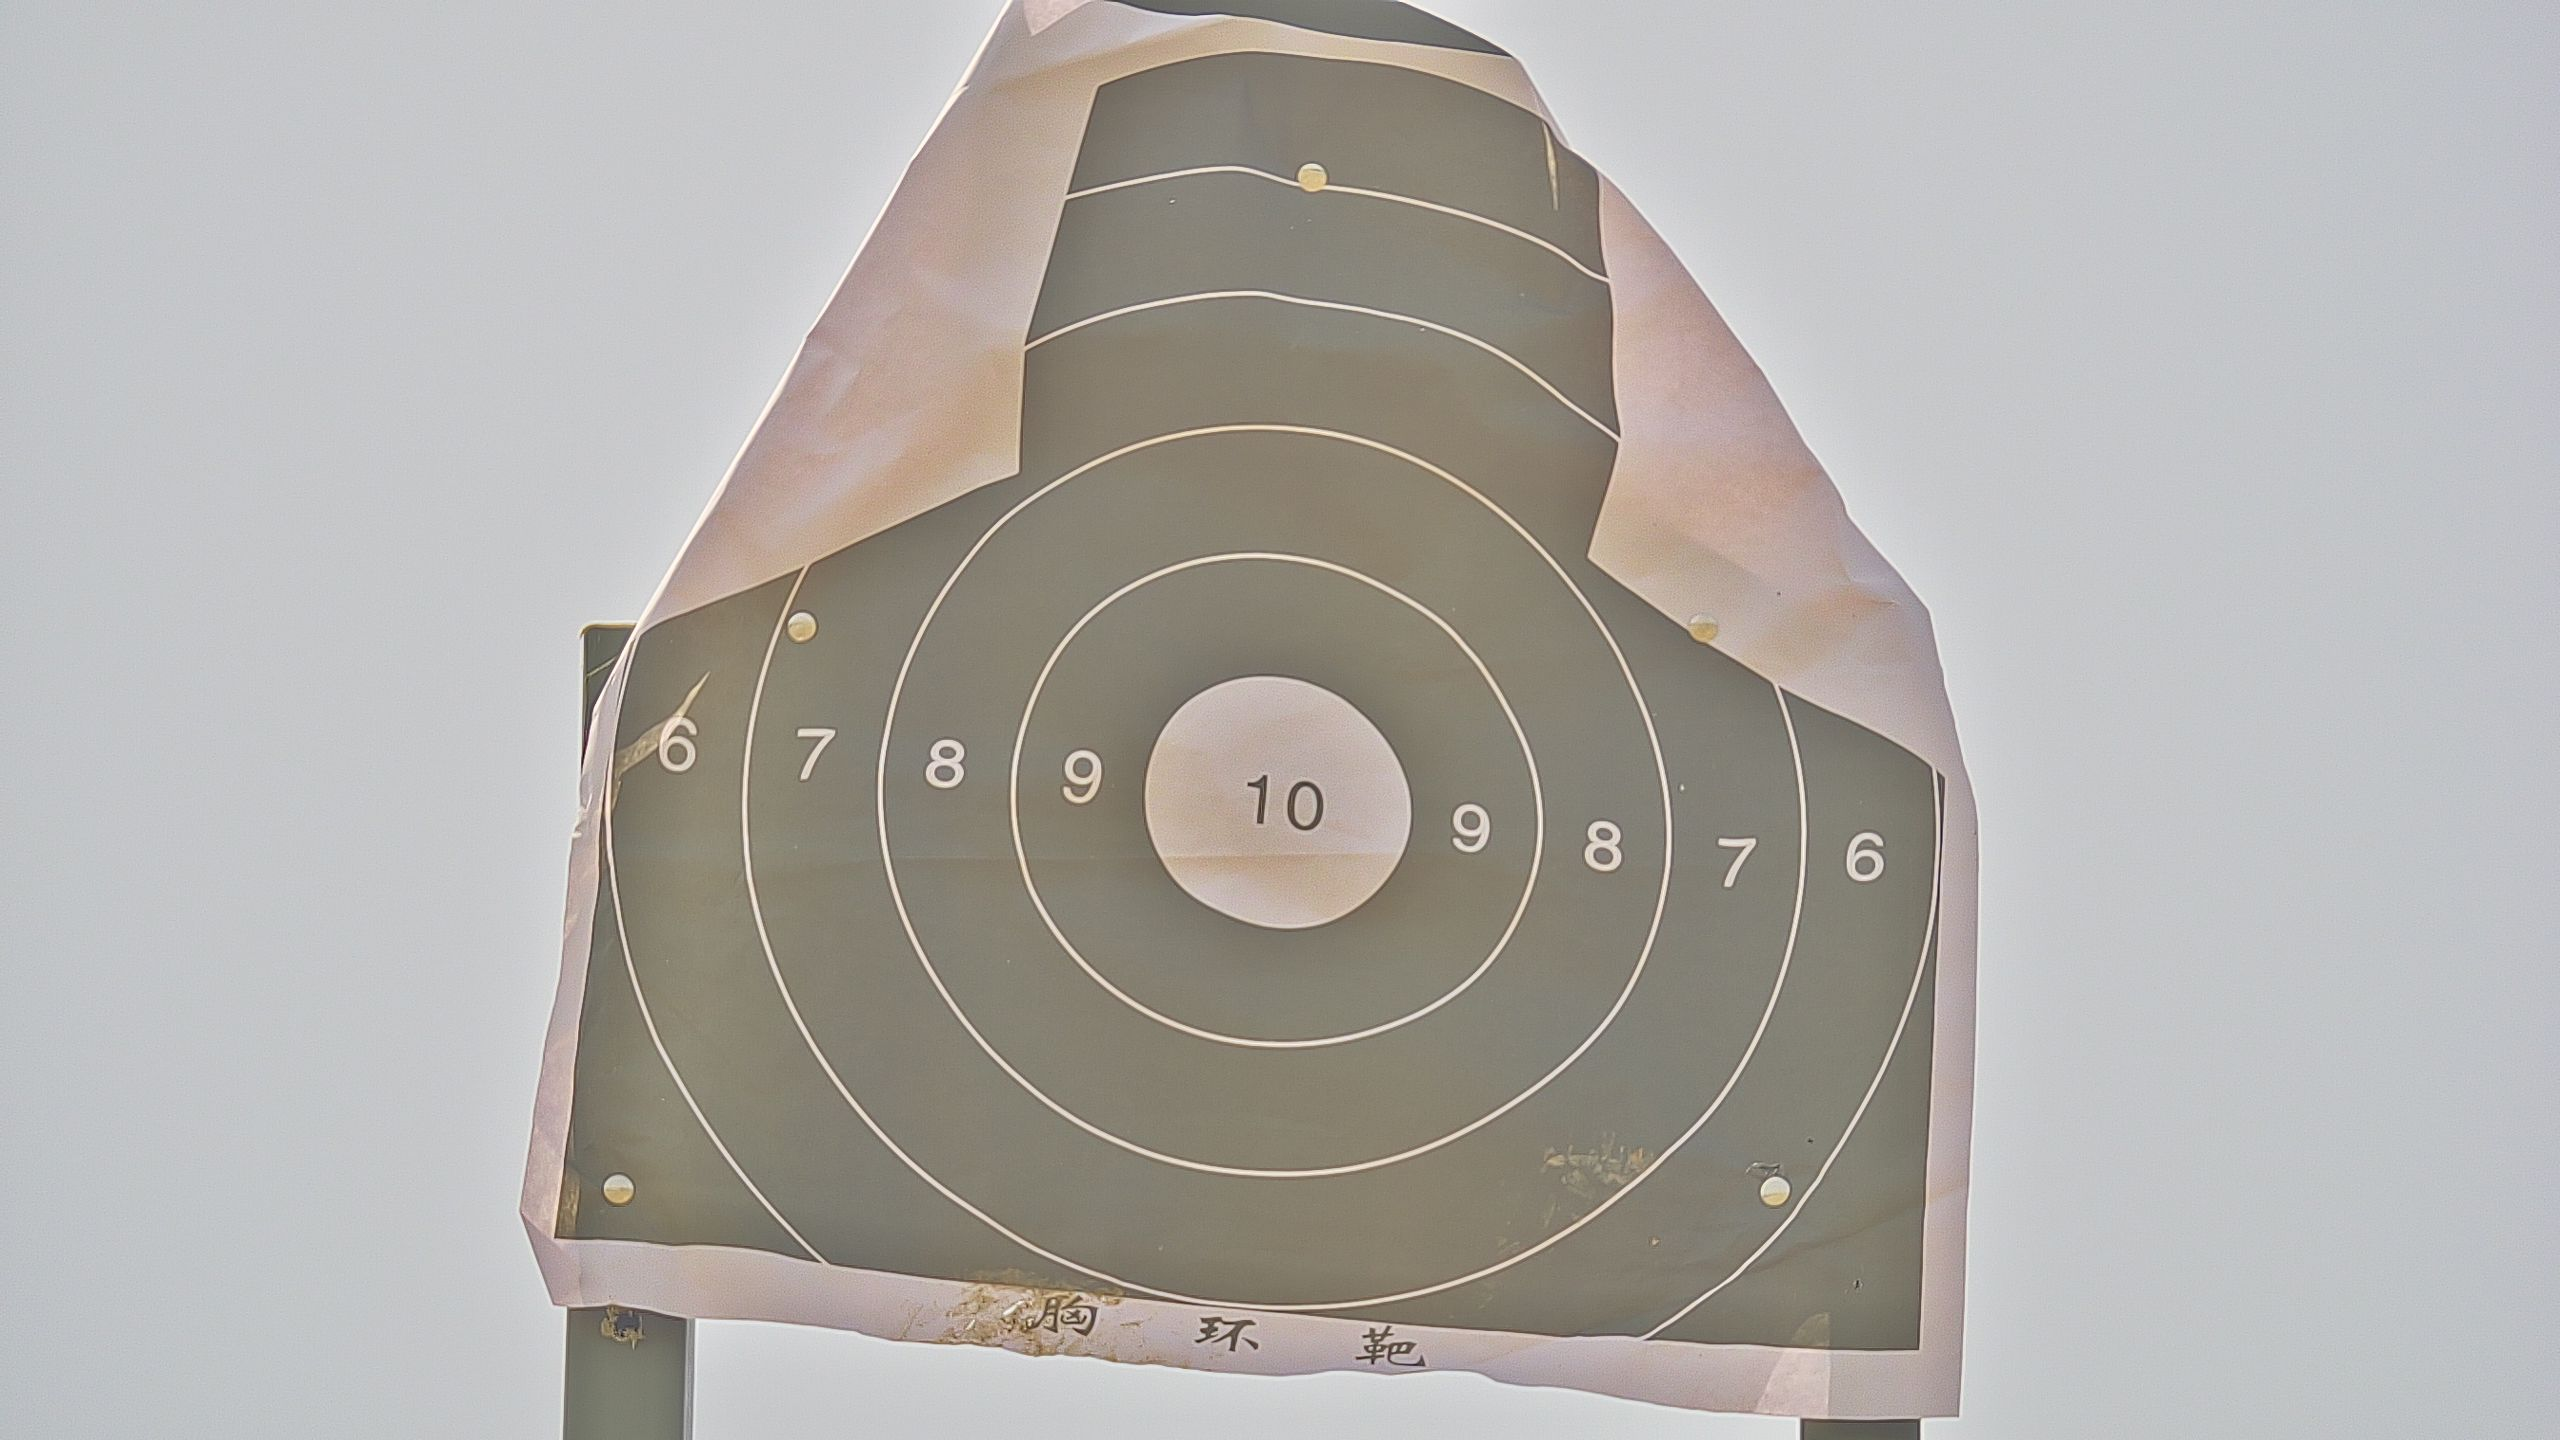kernel: (1273, 796, 1278, 807)
target: (550, 55, 1934, 1361)
ten: (1146, 675, 1415, 932)
